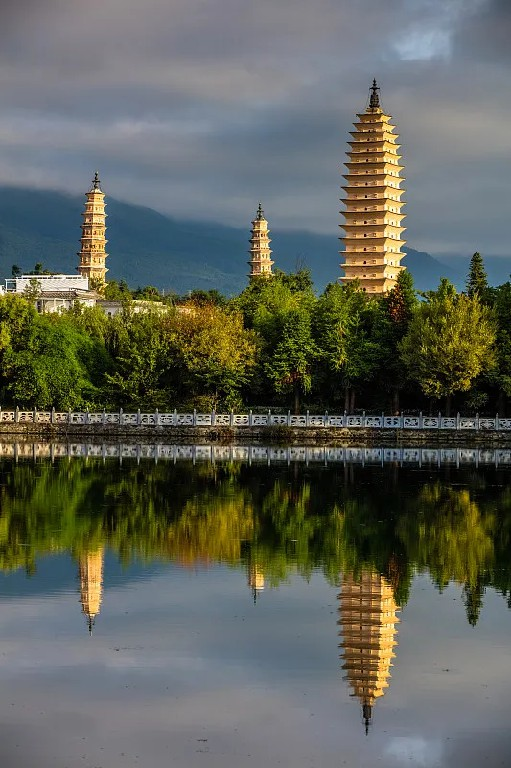ThreePagoda: (339, 77, 406, 295)
